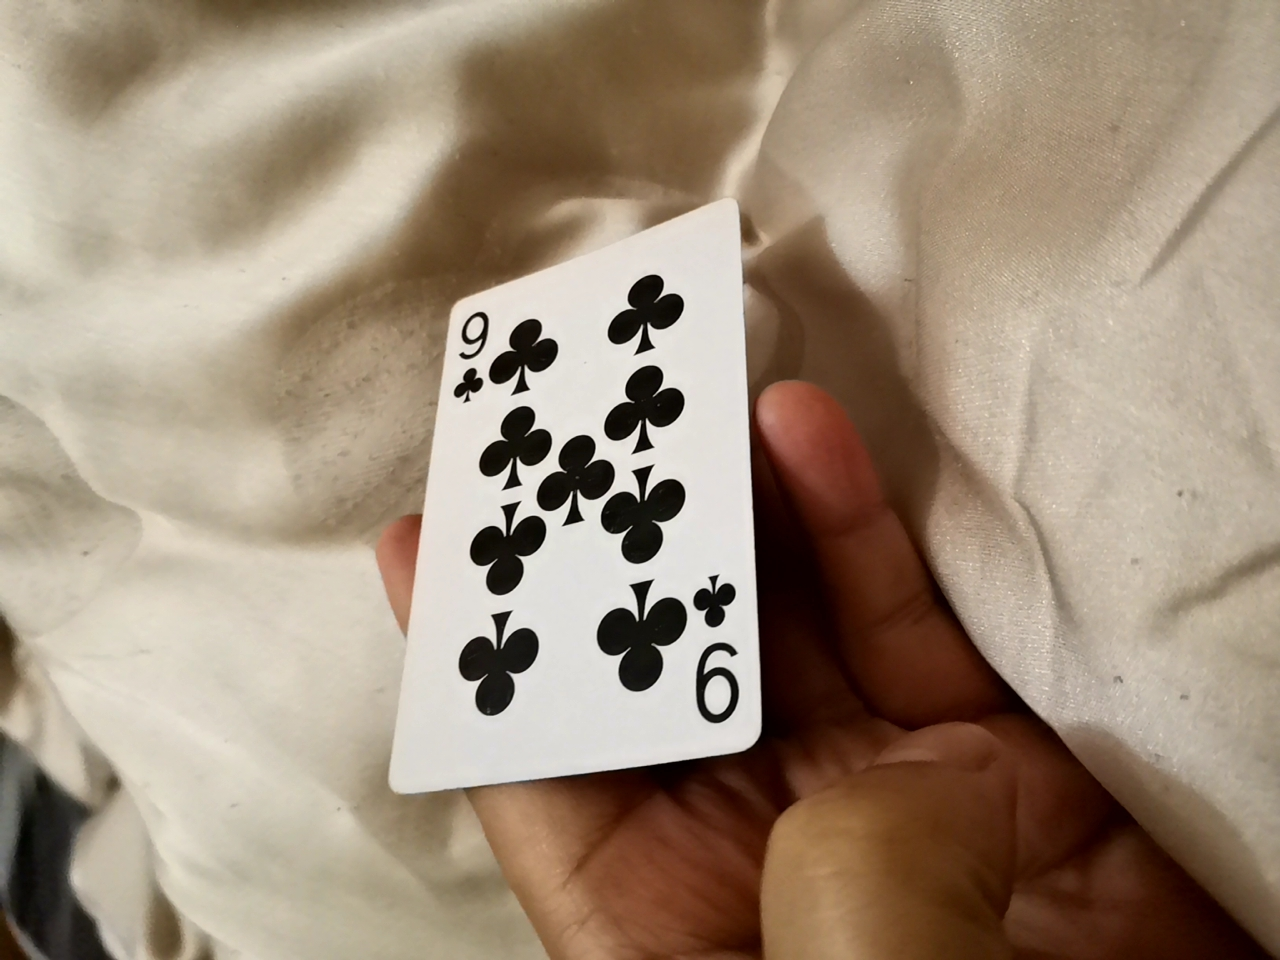mh 9: (403, 207, 754, 791)
